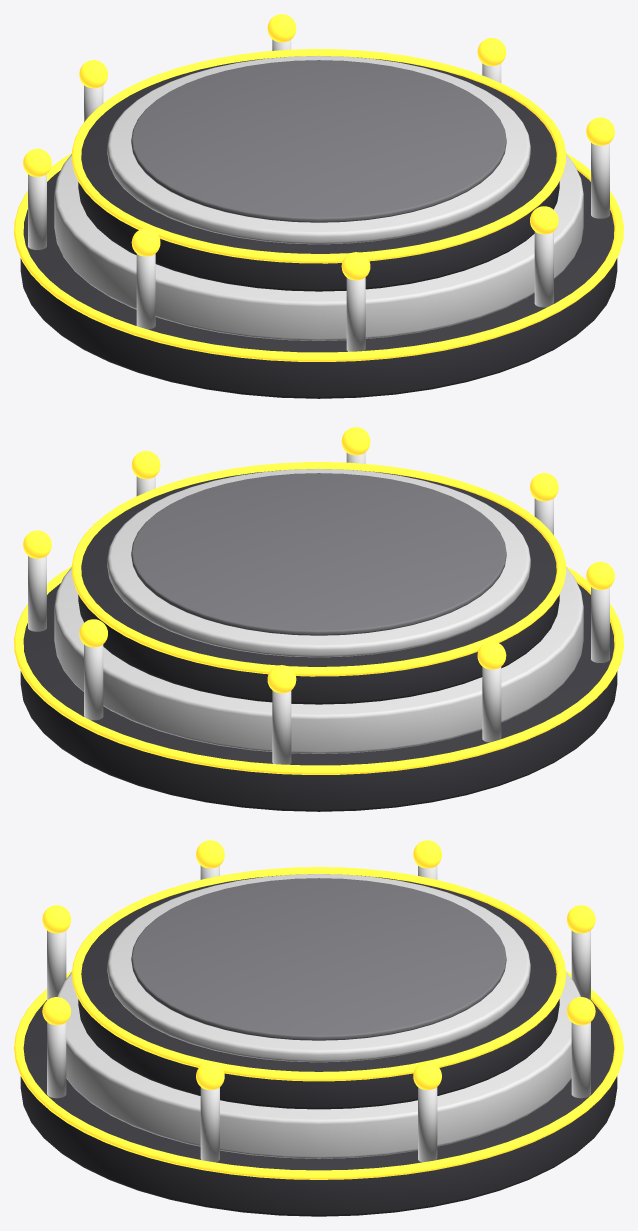
File: podium-europa-great.glb
3 renders of one model, top to bottom at view 1: azimuth 30°, elevation 25°; view 2: azimuth 150°, elevation 25°; view 3: azimuth 270°, elevation 25°, orthographic.
Parts seen in each view (by area): view 1: deck, base, tier, tier2, top, Torus.001, Torus, Cylinder.006, Cylinder.004, Cylinder.005, Cylinder.007, Cylinder.003 (+8 smaller); view 2: deck, base, tier, tier2, top, Torus.001, Torus, Cylinder.001, Cylinder.003, Cylinder.002, Cylinder, Cylinder.004 (+8 smaller); view 3: deck, base, tier, tier2, top, Torus.001, Torus, Cylinder.001, Cylinder.006, Cylinder, Cylinder.007, Cylinder.002 (+9 smaller).
Part boxes in pixels (<box>): deck: <box>131,60,506,222</box>; base: <box>20,170,617,398</box>; tier: <box>54,154,583,340</box>; tier2: <box>78,57,559,291</box>; top: <box>107,56,530,244</box>; Torus.001: <box>71,49,566,263</box>; Torus: <box>14,153,623,361</box>; Cylinder.006: <box>534,231,553,307</box>; Cylinder.004: <box>136,254,155,329</box>; Cylinder.005: <box>346,277,365,351</box>; Cylinder.007: <box>591,143,609,218</box>; Cylinder.003: <box>28,174,46,249</box>; deck: <box>131,473,506,635</box>; base: <box>20,583,617,811</box>; tier: <box>54,567,583,753</box>; tier2: <box>78,470,559,704</box>; top: <box>107,469,530,657</box>; Torus.001: <box>71,462,566,676</box>; Torus: <box>14,566,623,774</box>; Cylinder.001: <box>84,644,103,720</box>; Cylinder.003: <box>482,667,501,742</box>; Cylinder.002: <box>272,690,291,764</box>; Cylinder: <box>28,556,46,631</box>; Cylinder.004: <box>591,587,609,662</box>; deck: <box>131,878,506,1040</box>; base: <box>20,1000,617,1216</box>; tier: <box>57,972,580,1158</box>; tier2: <box>78,875,559,1109</box>; top: <box>107,874,530,1062</box>; Torus.001: <box>71,867,566,1081</box>; Torus: <box>14,971,623,1179</box>; Cylinder.001: <box>571,1022,590,1098</box>; Cylinder.006: <box>47,1022,66,1098</box>; Cylinder: <box>418,1087,437,1162</box>; Cylinder.007: <box>200,1087,219,1162</box>; Cylinder.002: <box>571,930,590,1000</box>.
Size of the model in its own units: 6.34 by 1.6 by 6.34.
